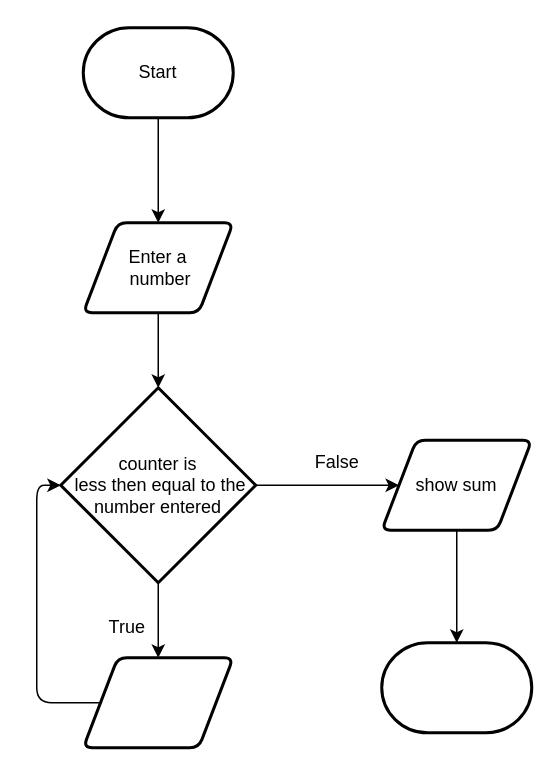
The diagram is 560 pixels wide and 774 high, and some of its shapes have lost their labels. The shapes that lost their labels are listed below. From the top down, each one's centre as x and y in pixels, then its label:
point (157, 702): add 1 to counter
point (456, 687): Stop
